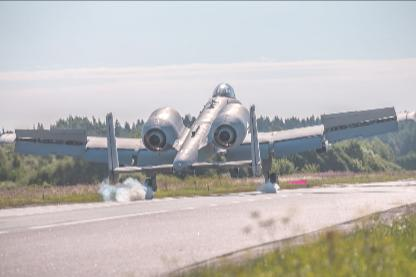A10: (0, 81, 415, 198)
